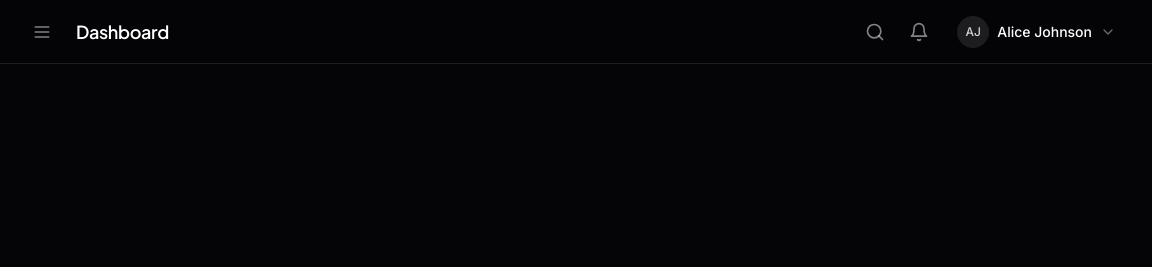
Test: Header › opens the profile menu on click
The image size is (1152, 267).
Click the button with aria-label "User menu": click(1037, 32) x1=945 y1=10 x2=1128 y2=54
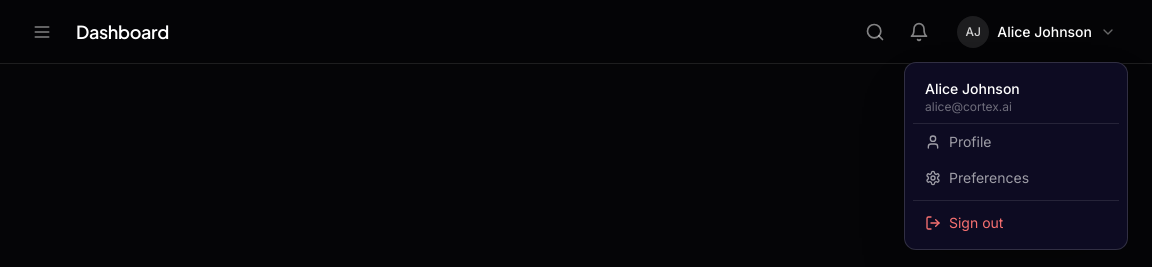
Result: the menu is shown at x1=904 y1=62 x2=1128 y2=250
